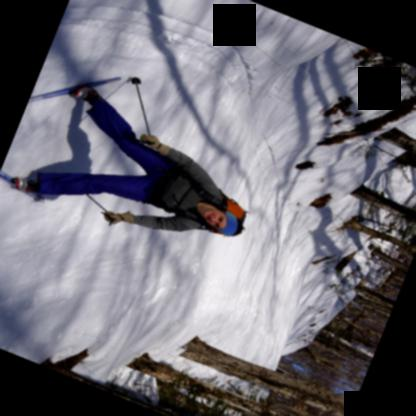backpack: (163, 176, 245, 234)
